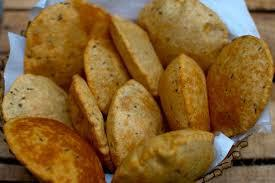kachori: (21, 9, 273, 179)
